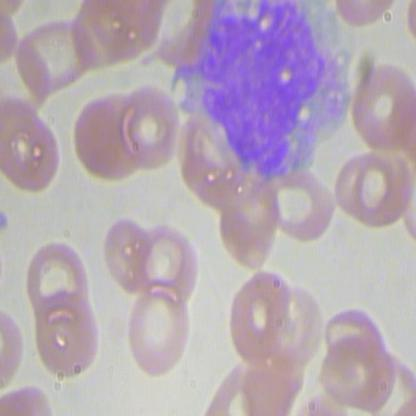RBC: (13, 10, 97, 100), (348, 58, 416, 159), (227, 265, 294, 366), (328, 149, 412, 229), (1, 97, 64, 197), (316, 335, 400, 409), (30, 290, 99, 380), (134, 218, 203, 308), (126, 286, 194, 375), (114, 80, 180, 166), (27, 236, 89, 322), (270, 166, 336, 245), (102, 218, 156, 294)
WBC: (170, 1, 353, 188)
